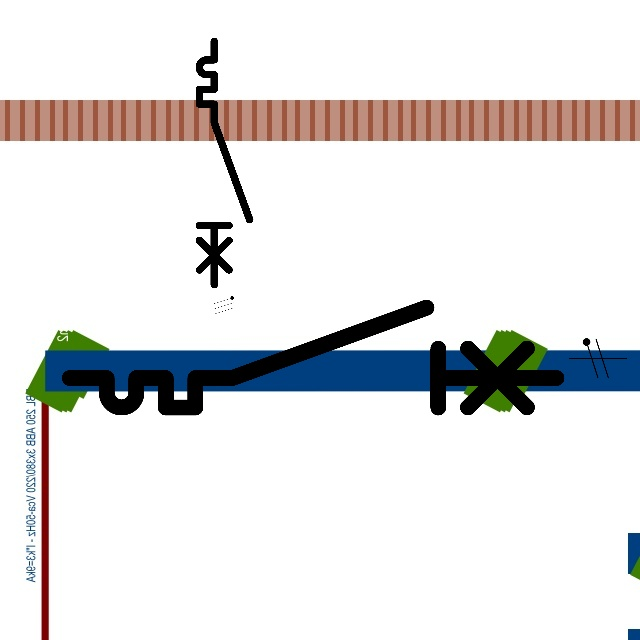interruptor_termomagnetico: (57, 295, 569, 420), (193, 35, 255, 291)
